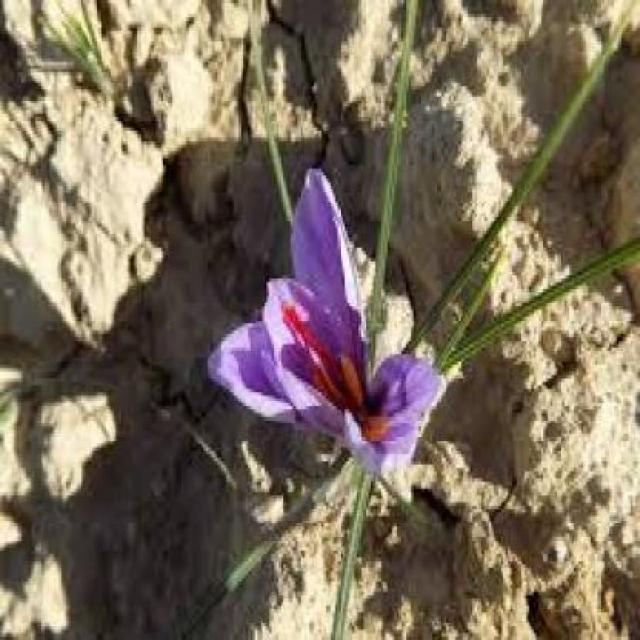Flower: (207, 163, 445, 474)
stigma: (280, 298, 340, 378)
